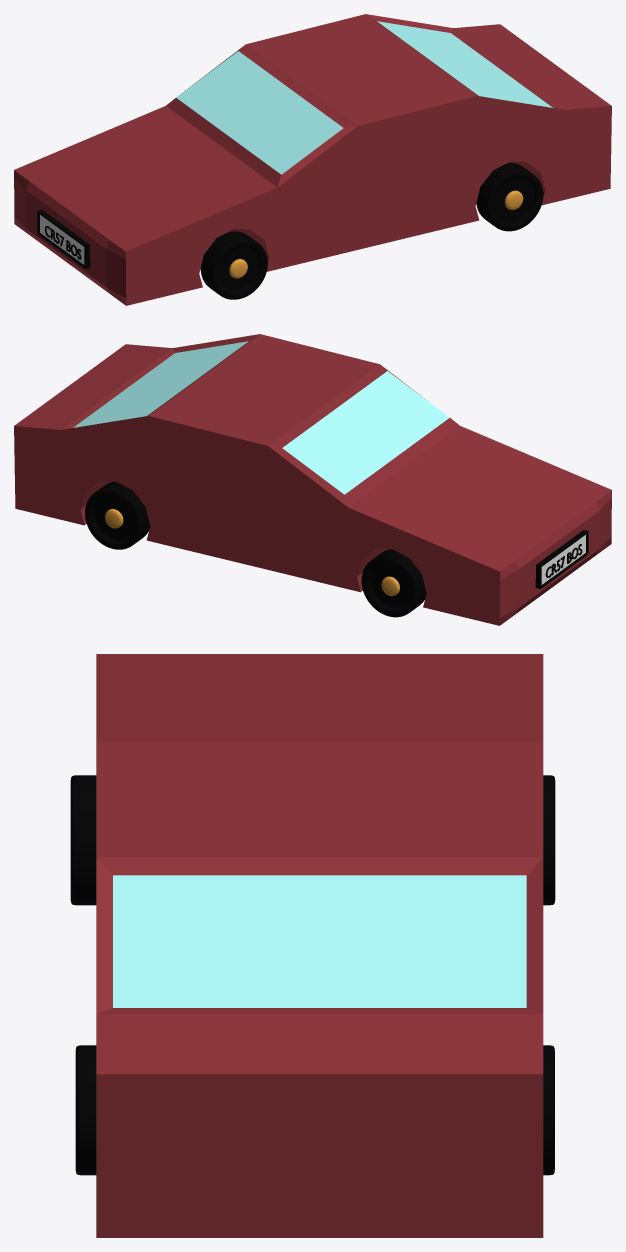
Rendered from car.fbx.
3 renders of one model, top to bottom at view 1: azimuth 30°, elevation 25°; view 2: azimuth 150°, elevation 25°; view 3: azimuth 270°, elevation 25°, orthographic. The views are drawn at different scales.
Visible parts, largest first — view 1: Plane, Plane.003, Plane.004, Cylinder.001, Cylinder.002, Plane.001, Plane.002; view 2: Plane, Plane.003, Plane.004, Cylinder.004, Cylinder.003, Plane.001, Plane.002; view 3: Plane, Plane.004, Cylinder.001, Cylinder.002, Cylinder.003, Cylinder.004.
Boxes of the visible parts, x1,y1,x2,y2 form: Plane: (14,14,611,305); Plane.003: (176,51,343,174); Plane.004: (377,21,552,107); Cylinder.001: (200,231,267,299); Cylinder.002: (476,163,543,231); Plane.001: (37,210,90,268); Plane.002: (40,215,84,264); Plane: (14,334,611,625); Plane.003: (282,371,449,494); Plane.004: (73,341,248,427); Cylinder.004: (85,481,150,549); Cylinder.003: (361,549,426,617); Plane.001: (535,530,588,588); Plane.002: (541,535,585,584); Plane: (96,654,543,1237); Plane.004: (113,875,526,1007); Cylinder.001: (70,775,96,905); Cylinder.002: (75,1045,96,1175); Cylinder.003: (543,775,555,905); Cylinder.004: (543,1045,554,1175).
Size of what is drawn, in the model's own units: 503 by 136 by 213.
